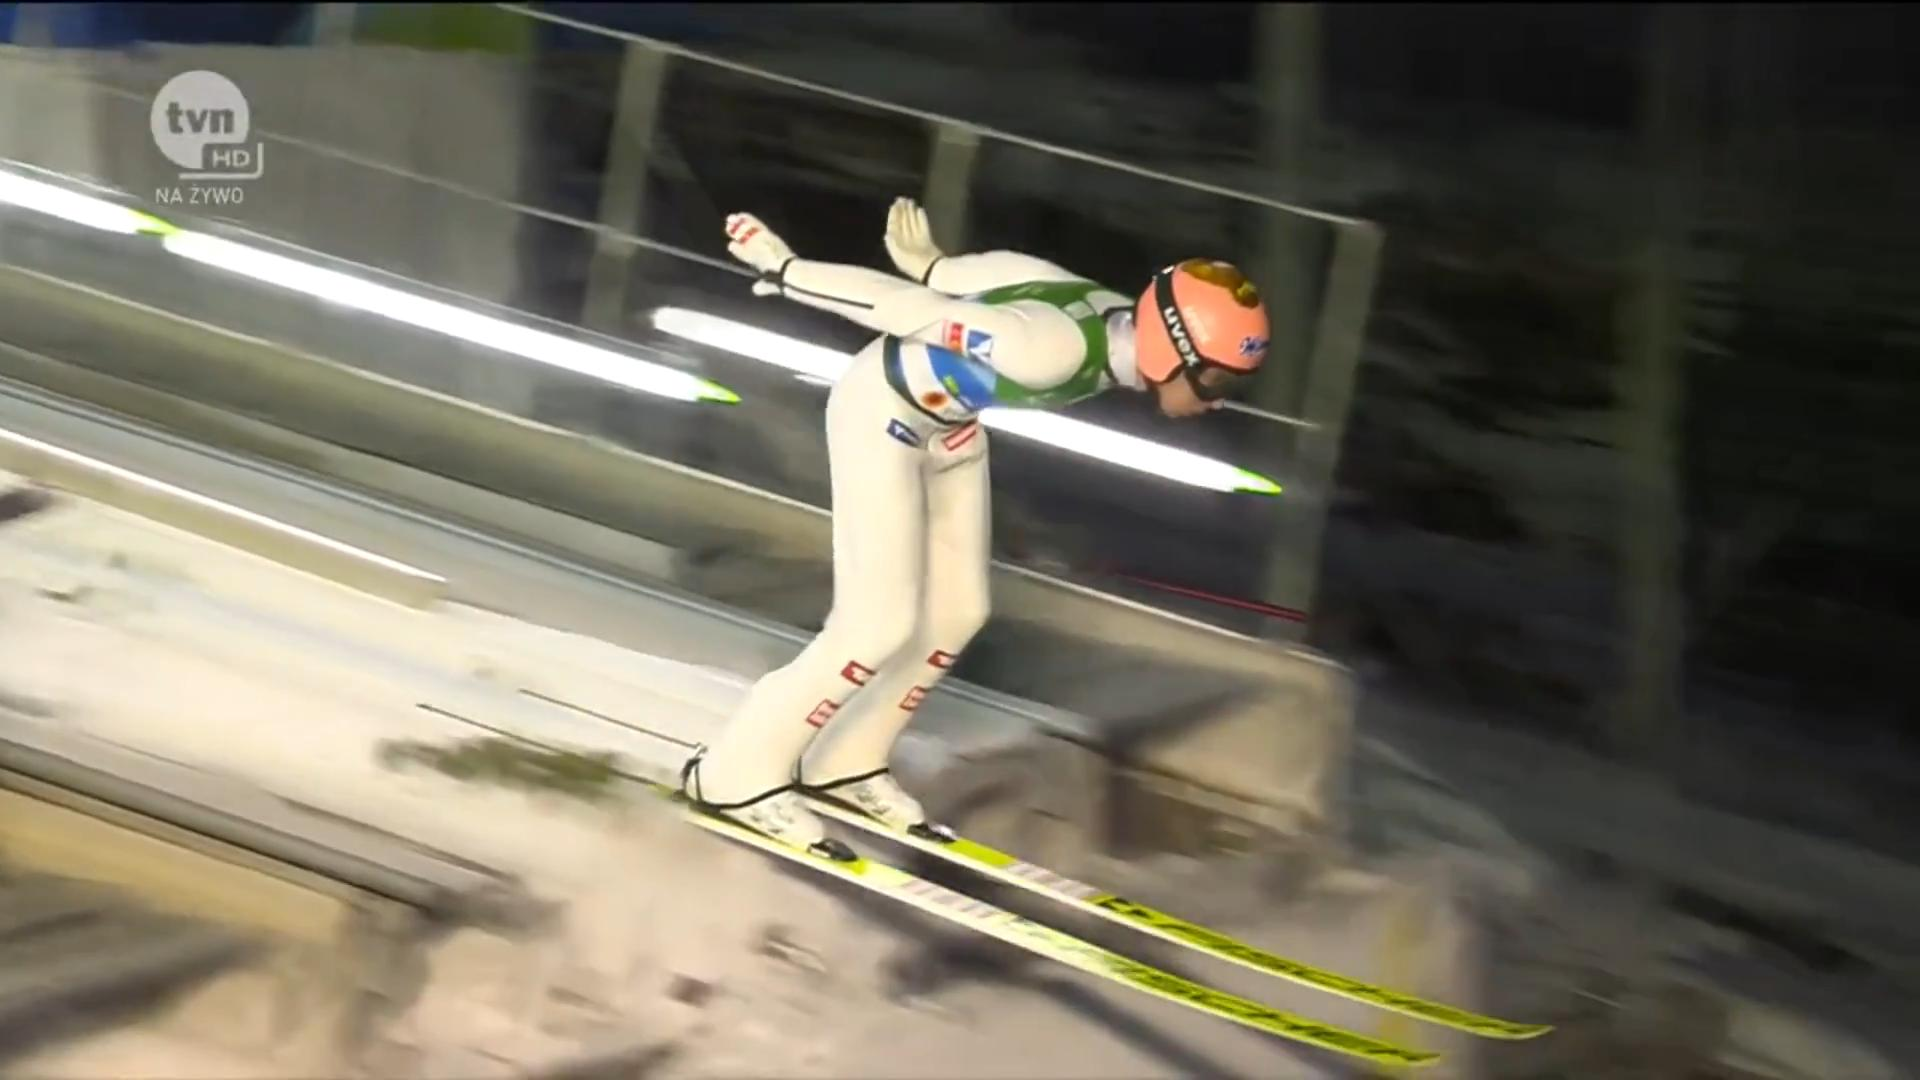prog: (967, 683, 1275, 775)
